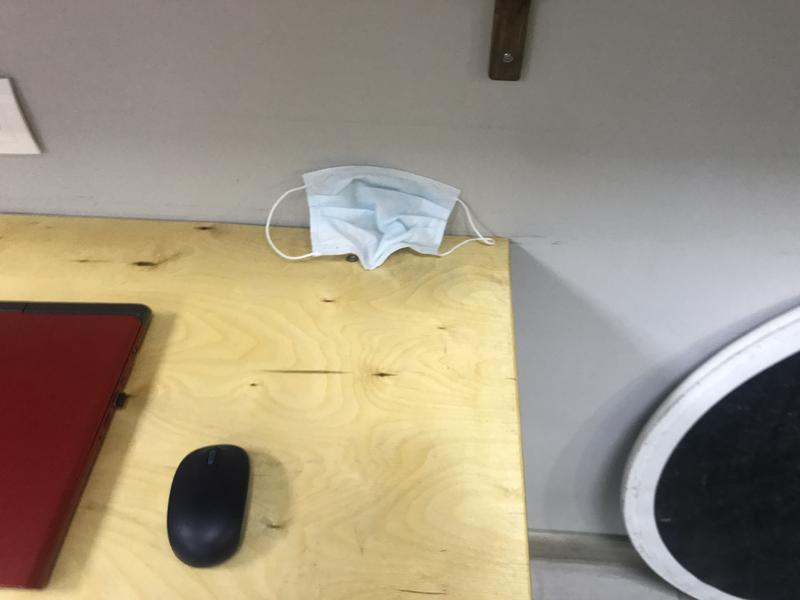medical_mask: (265, 164, 494, 269)
